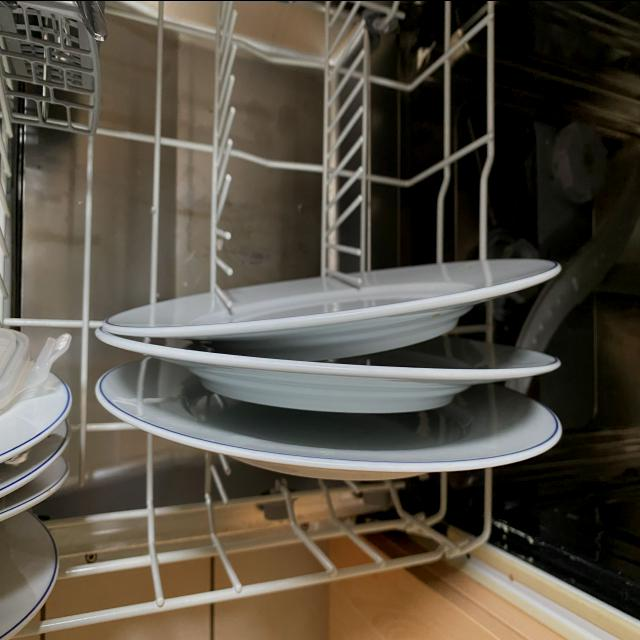empty_slot: (93, 0, 468, 278)
